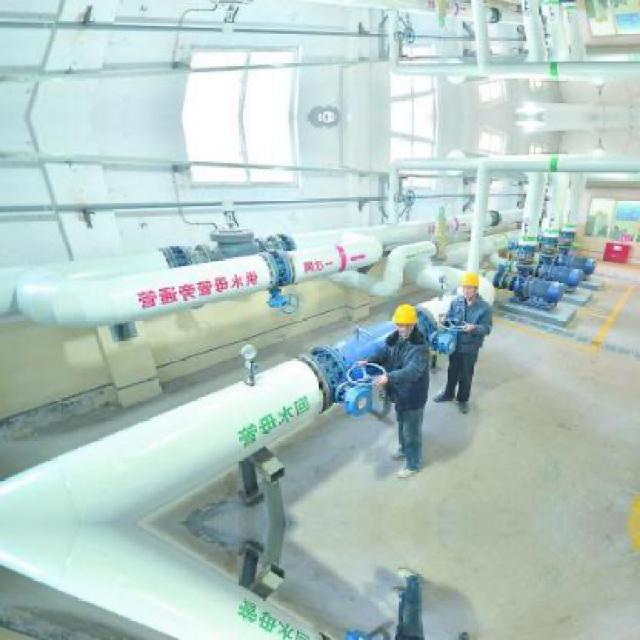helmet: (394, 300, 420, 342), (460, 269, 482, 302)
